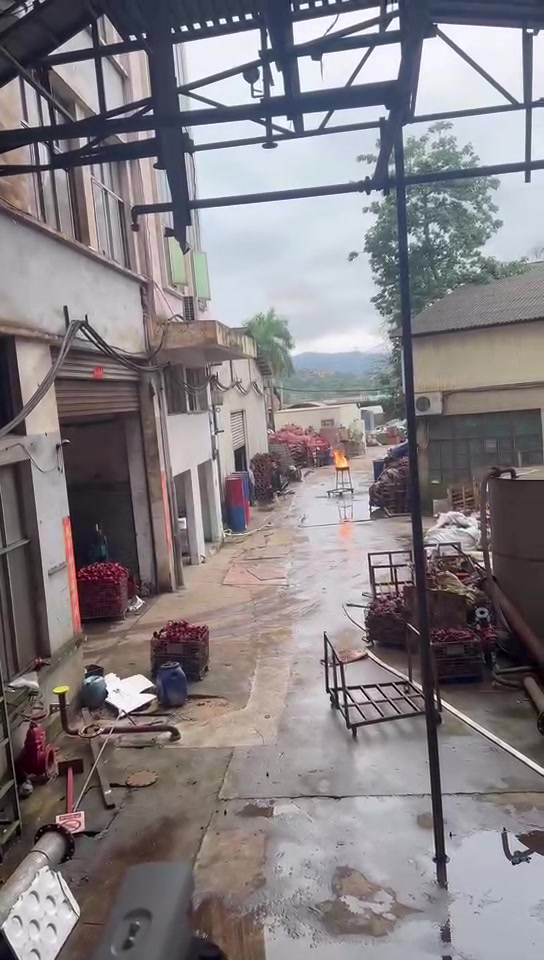fire: (333, 451, 348, 467)
